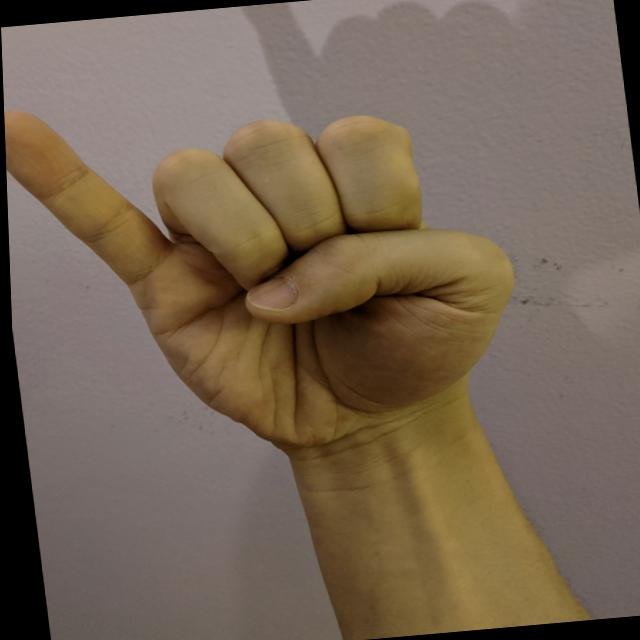I: (2, 58, 545, 483)
